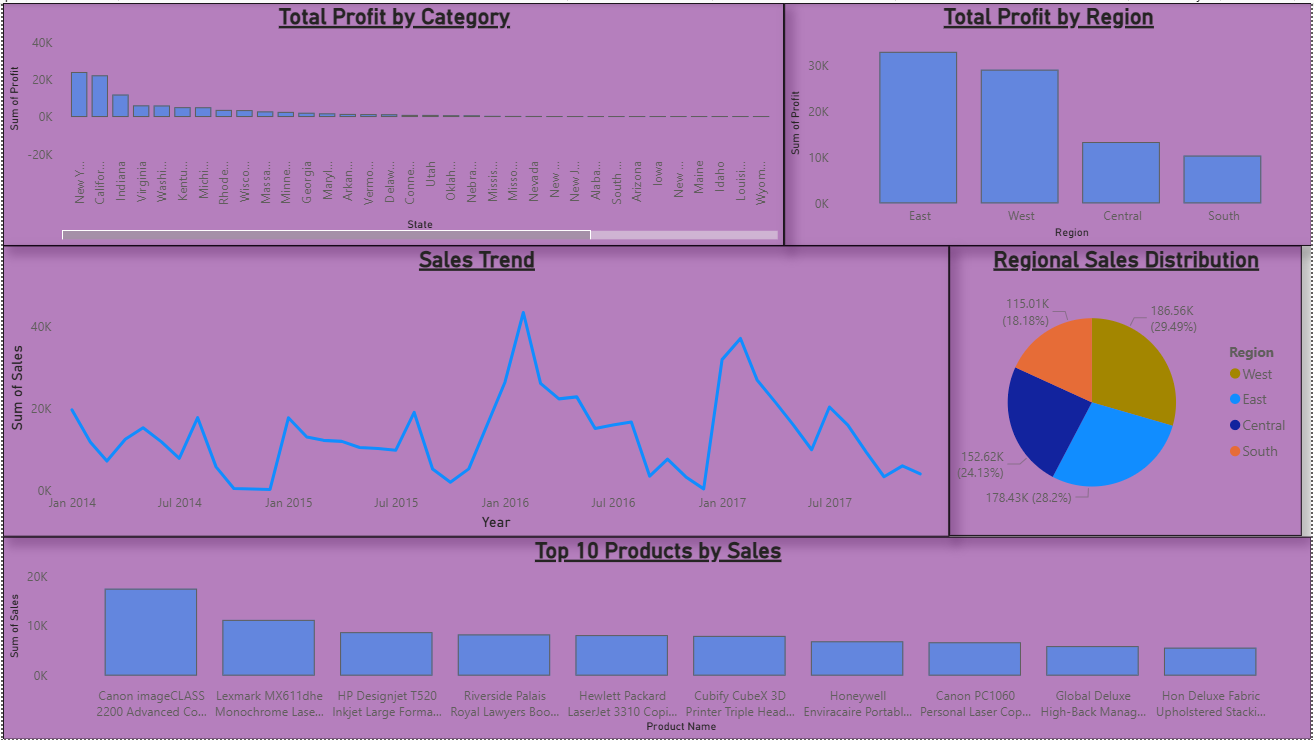

The page's visual inventory and layout, read from the dashboard file:
{"tool":"powerbi","page":{"name":"Page 2","canvas":[1280,720],"ordinal":1},"visuals":[{"type":"columnChart","title":"Total Profit by Category","fields":{"Y":["Sum(Superstore Sale..Profit)"],"Category":["Superstore Sale..State"]},"box":[0,0,764.3,237.2],"z":0},{"type":"columnChart","title":"Total Profit by Region","fields":{"Category":["Superstore Sale..Region"],"Y":["Sum(Superstore Sale..Profit)"]},"box":[764.3,0,516,237.2],"z":1000},{"type":"lineChart","title":"Sales Trend","fields":{"Y":["Sum(Superstore Sale..Sales)"],"Category":["Superstore Sale..Order Date.Variation.Date Hierarchy.Year","Superstore Sale..Order Date.Variation.Date Hierarchy.Quarter","Superstore Sale..Order Date.Variation.Date Hierarchy.Month"]},"box":[0,237.2,925.7,284.9],"z":2000},{"type":"pieChart","title":"Regional Sales Distribution","fields":{"Category":["Superstore Sale..Region"],"Y":["Sum(Superstore Sale..Sales)"]},"box":[925.7,237.2,344.8,283.7],"z":3000},{"type":"columnChart","title":"Top 10 Products by Sales","fields":{"Y":["Sum(Superstore Sale..Sales)"],"Category":["Superstore Sale..Product Name"]},"box":[0,522.1,1280.3,198.1],"z":4000}]}

Visuals, with their boxes in screenshot pixels (x1, y1, x2, y2), scaled from the page's 1280x720 canvas onto the 1314x740 screenshot:
"Total Profit by Category" columnChart: {"left": 0, "top": 0, "right": 785, "bottom": 244}
"Total Profit by Region" columnChart: {"left": 785, "top": 0, "right": 1313, "bottom": 244}
"Sales Trend" lineChart: {"left": 0, "top": 244, "right": 950, "bottom": 537}
"Regional Sales Distribution" pieChart: {"left": 950, "top": 244, "right": 1304, "bottom": 535}
"Top 10 Products by Sales" columnChart: {"left": 0, "top": 537, "right": 1313, "bottom": 739}
